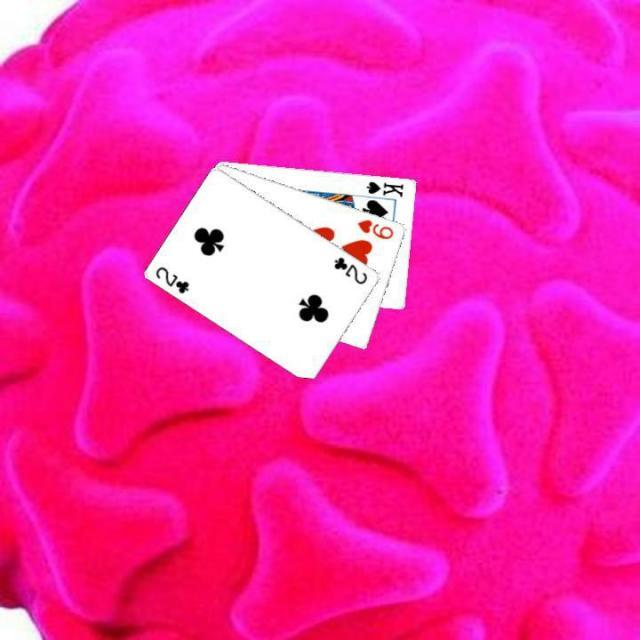2C: (330, 253, 370, 287), (152, 262, 191, 295)
9H: (354, 215, 396, 241)
KS: (363, 177, 407, 199)
